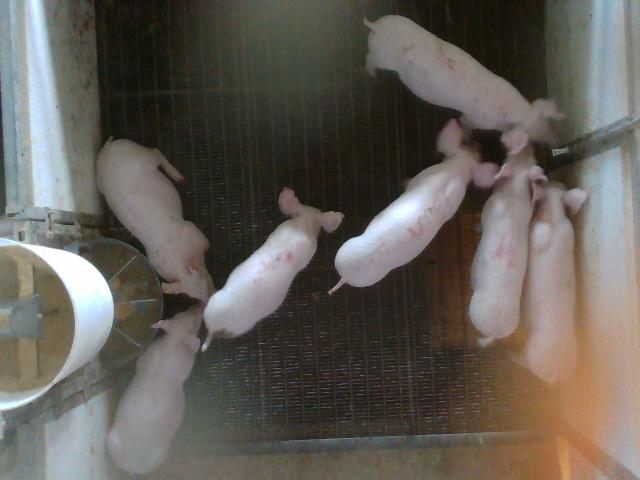pig-3: (329, 119, 496, 293)
pig-4: (469, 142, 541, 346)
pig-5: (202, 188, 344, 351)
